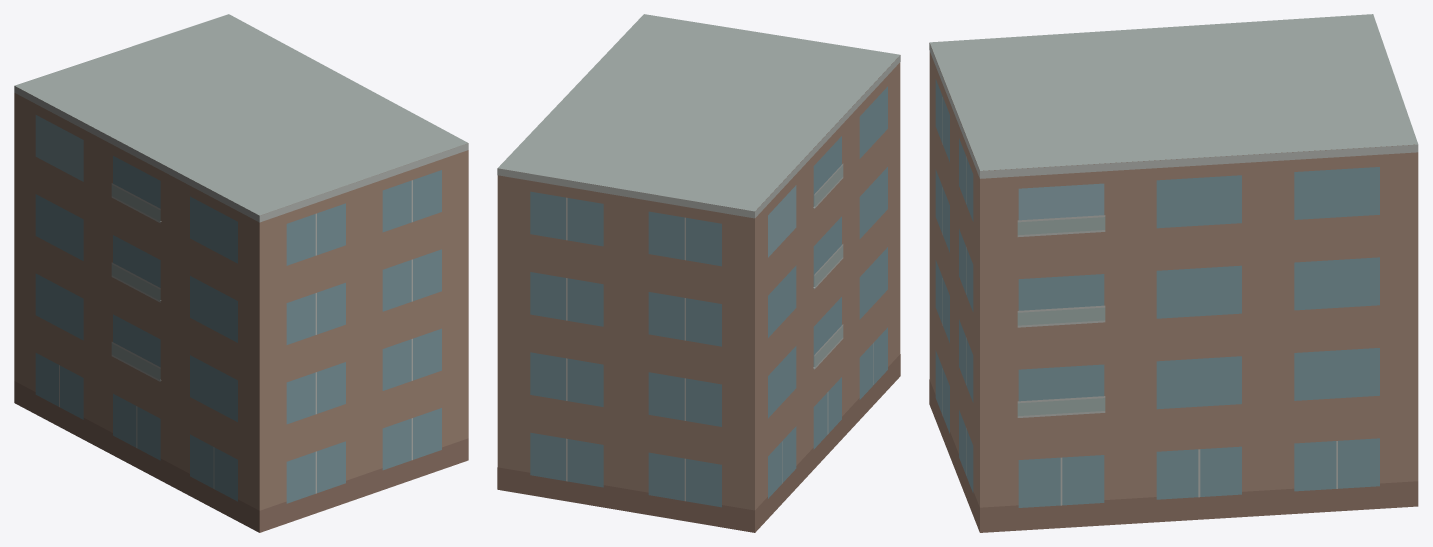
Rendered from survey-upis-32746719.glb.
3 views of the same model, side by side, from view 1: azimuth 30°, elevation 25°; view 2: azimuth 150°, elevation 25°; view 3: azimuth 270°, elevation 25° (orthographic). The views are drawn at different scales.
Parts seen in each view (by area): view 1: survey-upis-32746719.tmp; view 2: survey-upis-32746719.tmp; view 3: survey-upis-32746719.tmp.
Part boxes in pixels (bbox=[...]): survey-upis-32746719.tmp: bbox=[14, 14, 468, 532]; survey-upis-32746719.tmp: bbox=[497, 14, 900, 532]; survey-upis-32746719.tmp: bbox=[929, 14, 1418, 532].
Bounding box in the file's own units: 10.43 × 11.2 × 13.72.
